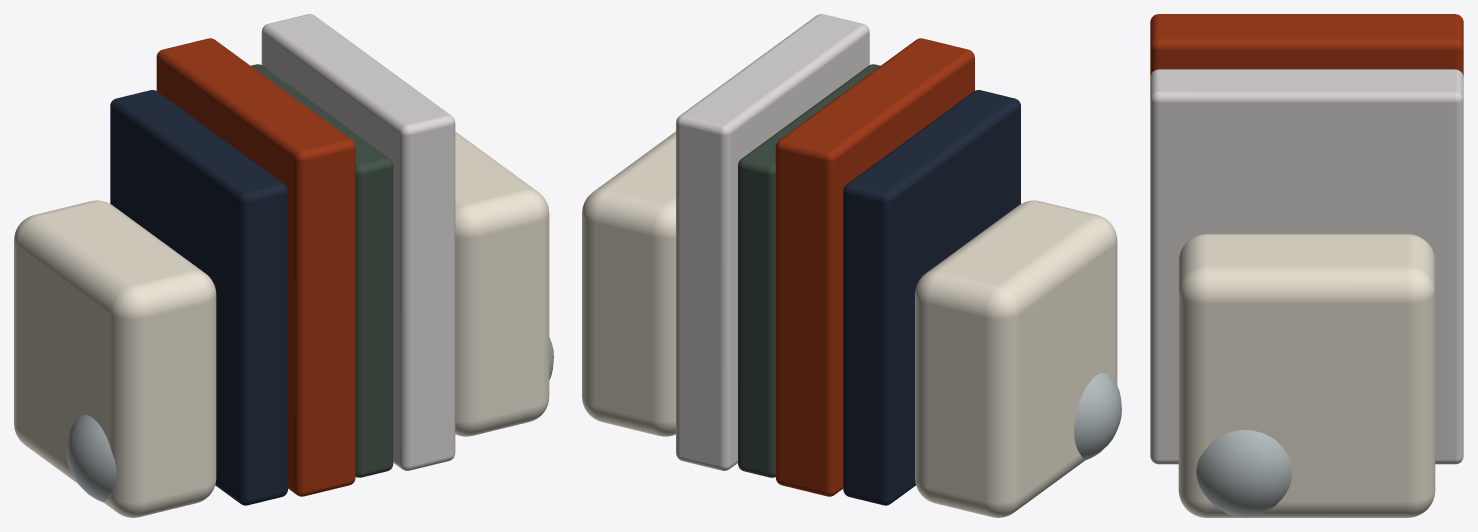
Rendered from atelier-decor-bookends-nordic.glb.
3 views of the same model, side by side, from view 1: azimuth 30°, elevation 25°; view 2: azimuth 150°, elevation 25°; view 3: azimuth 270°, elevation 25° (orthographic). The views are drawn at different scales.
Bounding box in the file's own units: 0.332 × 0.232 × 0.177.
